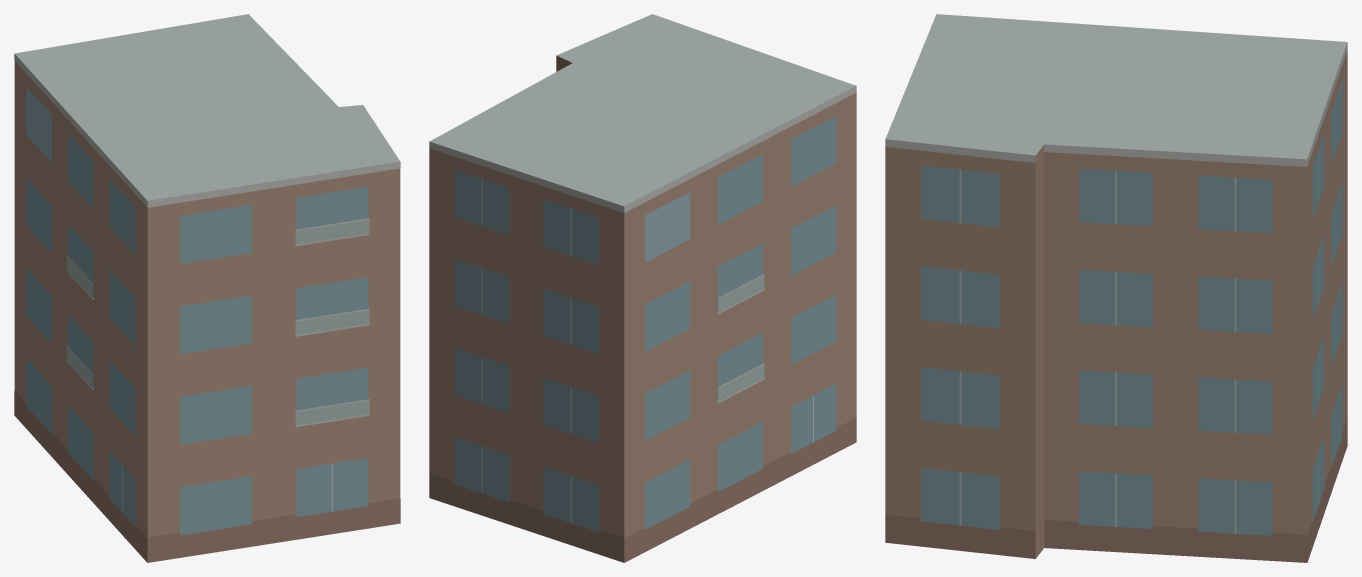
File: survey-upis-32730142.glb
The picture shows the model from 3 angles, left to right: view 1: azimuth 30°, elevation 25°; view 2: azimuth 150°, elevation 25°; view 3: azimuth 270°, elevation 25°; orthographic projection. The views are drawn at different scales.
Visible parts, largest first — view 1: survey-upis-32730142.tmp; view 2: survey-upis-32730142.tmp; view 3: survey-upis-32730142.tmp.
Boxes of the visible parts, bbox=[...] form: survey-upis-32730142.tmp: bbox=[14, 14, 400, 562]; survey-upis-32730142.tmp: bbox=[429, 14, 856, 562]; survey-upis-32730142.tmp: bbox=[885, 14, 1347, 562].
Bounding box in the file's own units: 10.06 × 13 × 13.51.
